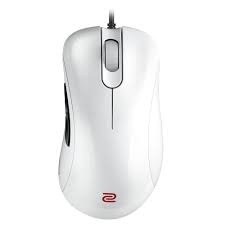mouse: (48, 22, 170, 221)
